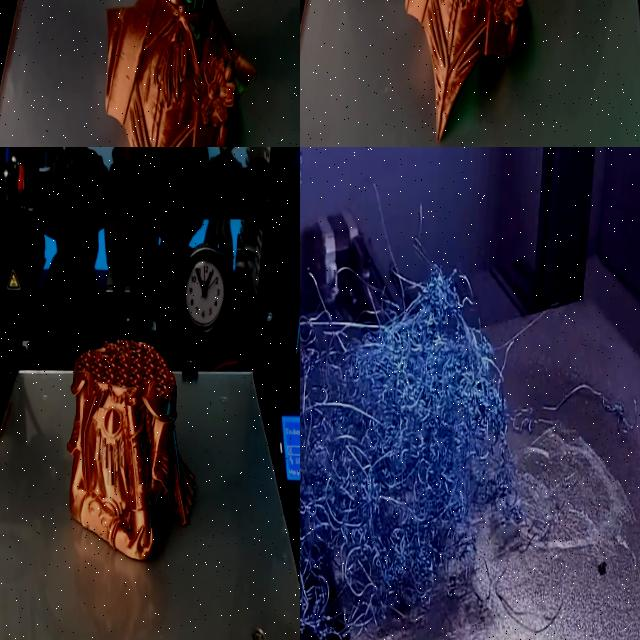spaghetti: (300, 179, 541, 640)
